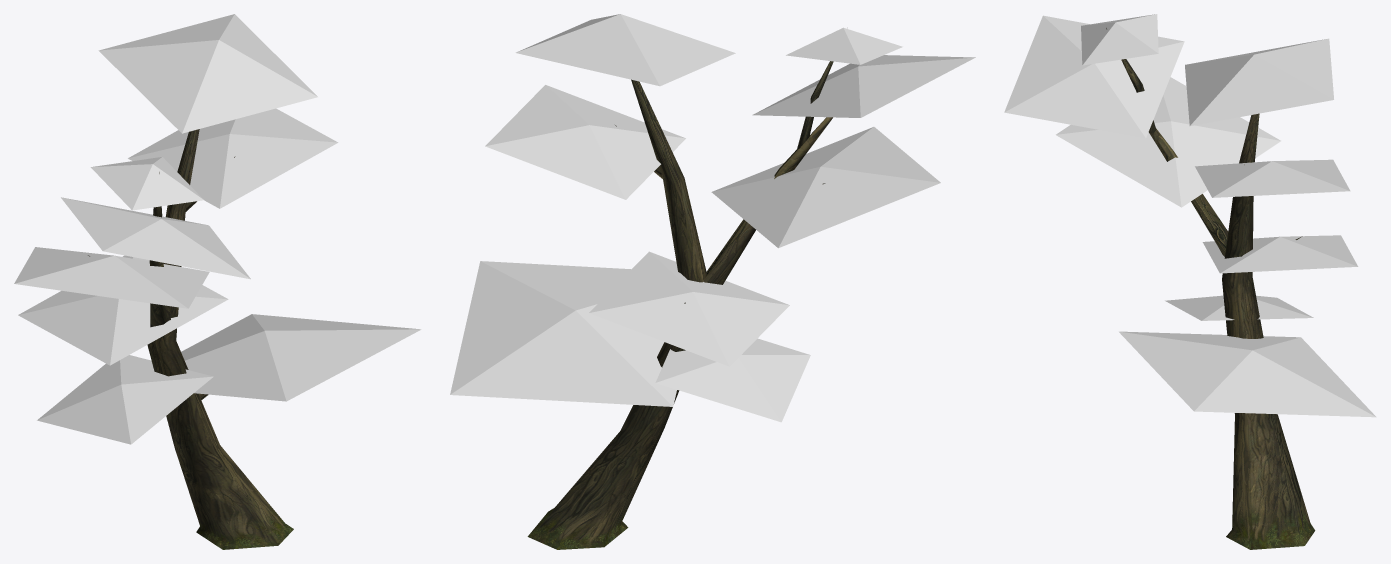
File: LilTree2_NOLOD.fbx
3 renders of one model, left to right at view 1: azimuth 30°, elevation 25°; view 2: azimuth 150°, elevation 25°; view 3: azimuth 270°, elevation 25°, orthographic. The views are drawn at different scales.
Parts seen in each view (by area): view 1: liltree2_LOD0; view 2: liltree2_LOD0; view 3: liltree2_LOD0.
Part boxes in pixels (<box>): liltree2_LOD0: <box>14,14,421,549</box>; liltree2_LOD0: <box>450,14,975,549</box>; liltree2_LOD0: <box>1004,14,1376,549</box>.
Size of the model in its own units: 1055 by 1189 by 867.
